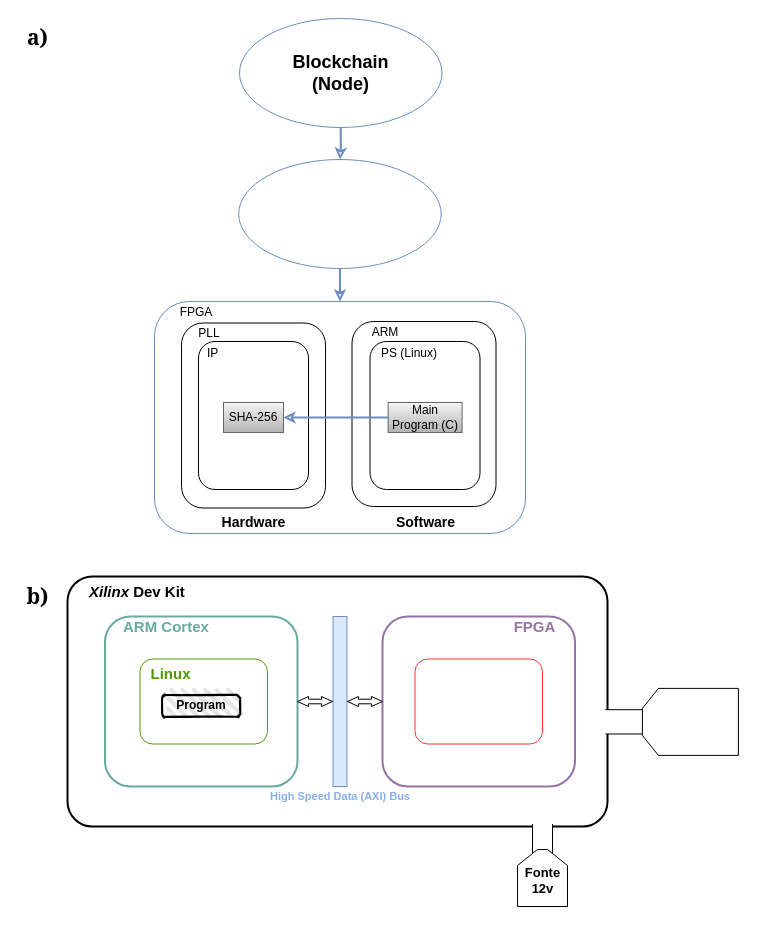
This 761x934 diagram has some shape labels left out. The shapes that lost their labels are listed below. From the top down, each one's centre as x and y in pixels, then its label:
At point (339, 213): "Python Parser".
At point (478, 701): "SHA – 256".
At point (689, 721): "Micro USB".
